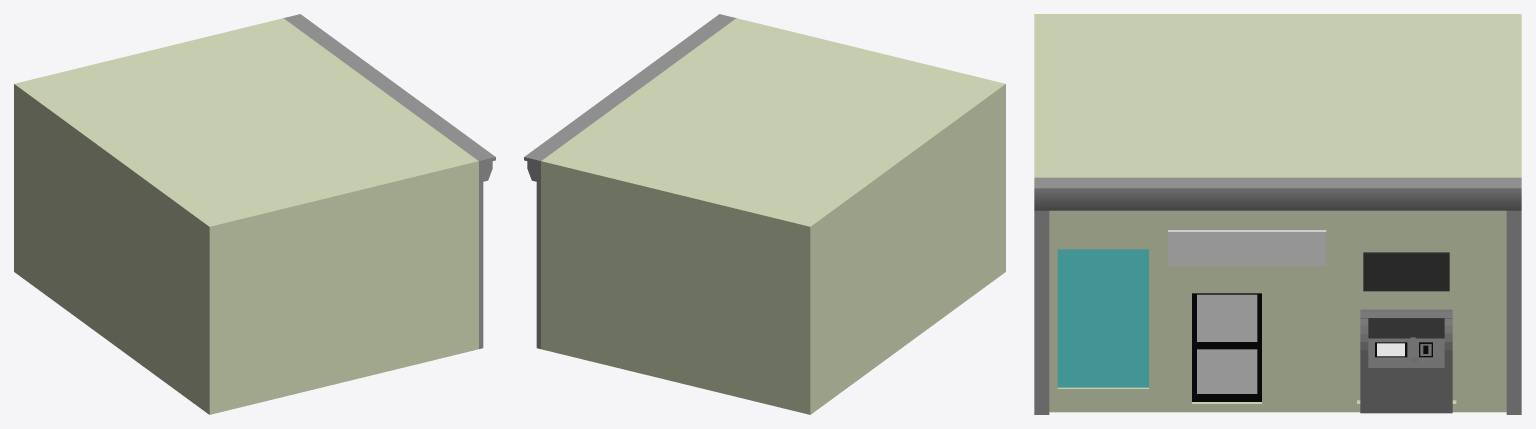
The model's file is STOREwithATM.fbx.
The picture shows the model from 3 angles, left to right: view 1: azimuth 30°, elevation 25°; view 2: azimuth 150°, elevation 25°; view 3: azimuth 270°, elevation 25°; orthographic projection. The views are drawn at different scales.
Parts seen in each view (by area): view 1: Cube, Cube.004; view 2: Cube, Cube.004; view 3: Cube, Cube.004, ATM, Cube.001, Cube.002.
Part boxes in pixels (left/top/right/bottom): Cube: left=14, top=18, right=478, bottom=414; Cube.004: left=283, top=14, right=495, bottom=348; Cube: left=541, top=18, right=1005, bottom=414; Cube.004: left=524, top=14, right=736, bottom=348; Cube: left=1034, top=14, right=1521, bottom=412; Cube.004: left=1034, top=177, right=1521, bottom=414; ATM: left=1360, top=309, right=1452, bottom=413; Cube.001: left=1192, top=293, right=1261, bottom=401; Cube.002: left=1168, top=230, right=1326, bottom=265.
Bounding box in the file's own units: 2232 × 1401 × 2638.
